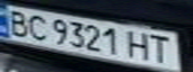1: (100, 25, 124, 56)
2: (81, 21, 103, 54)
3: (66, 19, 87, 49)
9: (45, 16, 72, 46)
B: (3, 7, 33, 37)
C: (24, 11, 51, 42)
H: (124, 28, 154, 61)
T: (145, 33, 178, 63)
